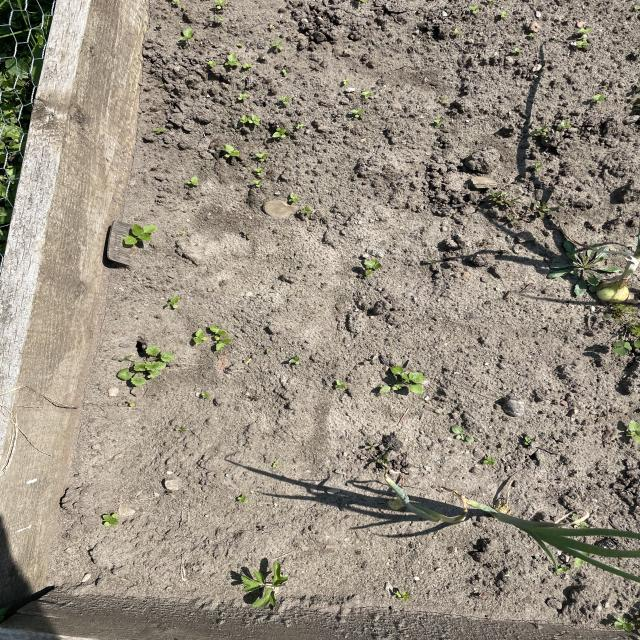Onion: (473, 496, 640, 583), (372, 468, 450, 528)
weed: (239, 557, 294, 620), (112, 343, 176, 395), (550, 243, 614, 294), (184, 320, 237, 355), (378, 368, 439, 398), (114, 222, 157, 250)
